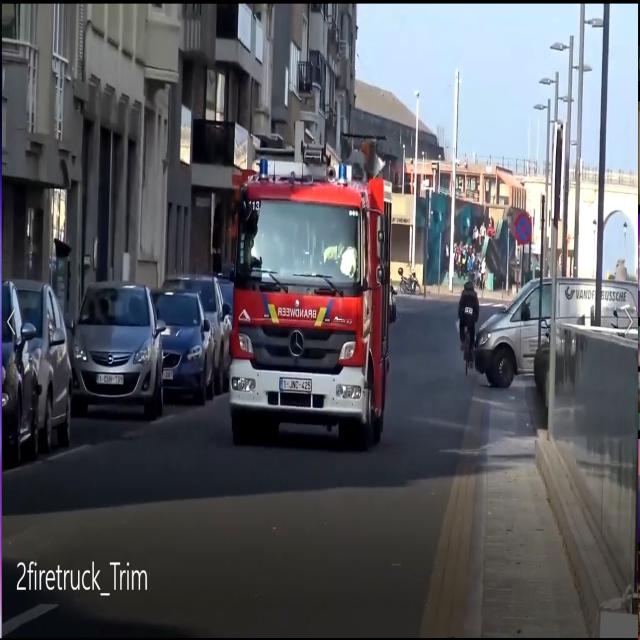emergency: (222, 150, 397, 449)
